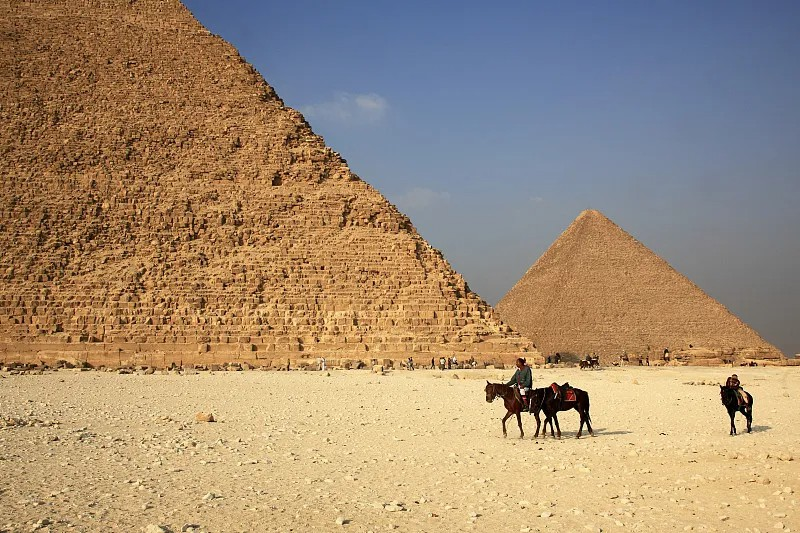Pyramid: (1, 2, 546, 364), (495, 210, 783, 358)
